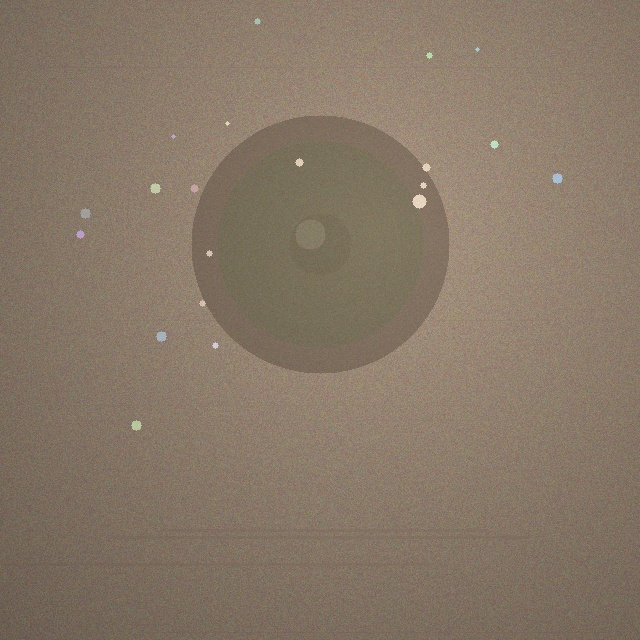overburn: (191, 115, 449, 373)
